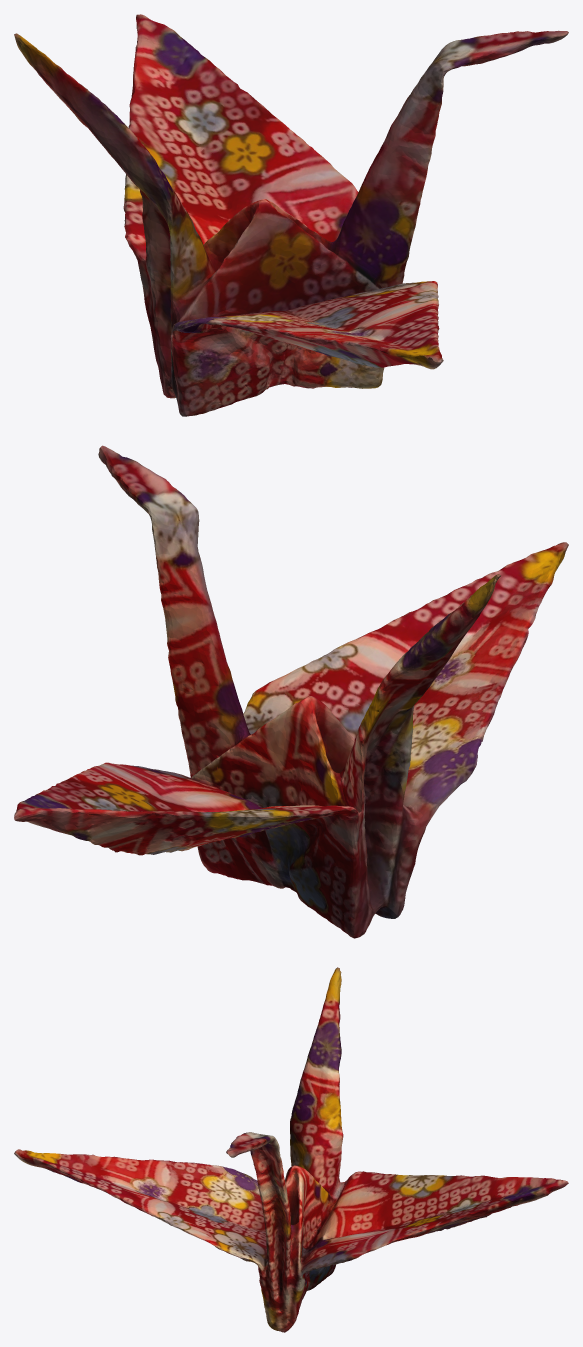
The picture shows the model from 3 angles, top to bottom: view 1: azimuth 30°, elevation 25°; view 2: azimuth 150°, elevation 25°; view 3: azimuth 270°, elevation 25°; orthographic projection. The views are drawn at different scales.
Size of the model in its own units: 0.097 by 0.0778 by 0.1492.
Materials: 1 (1 with a texture image).
